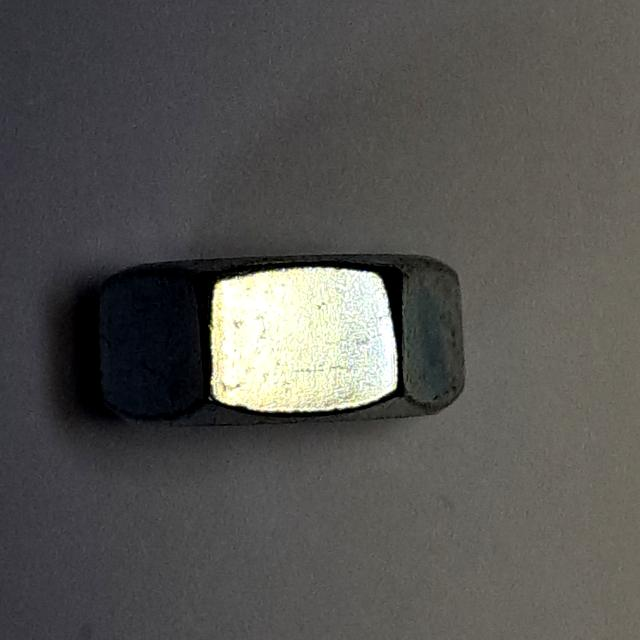Side_Excellent: (87, 243, 474, 449)
